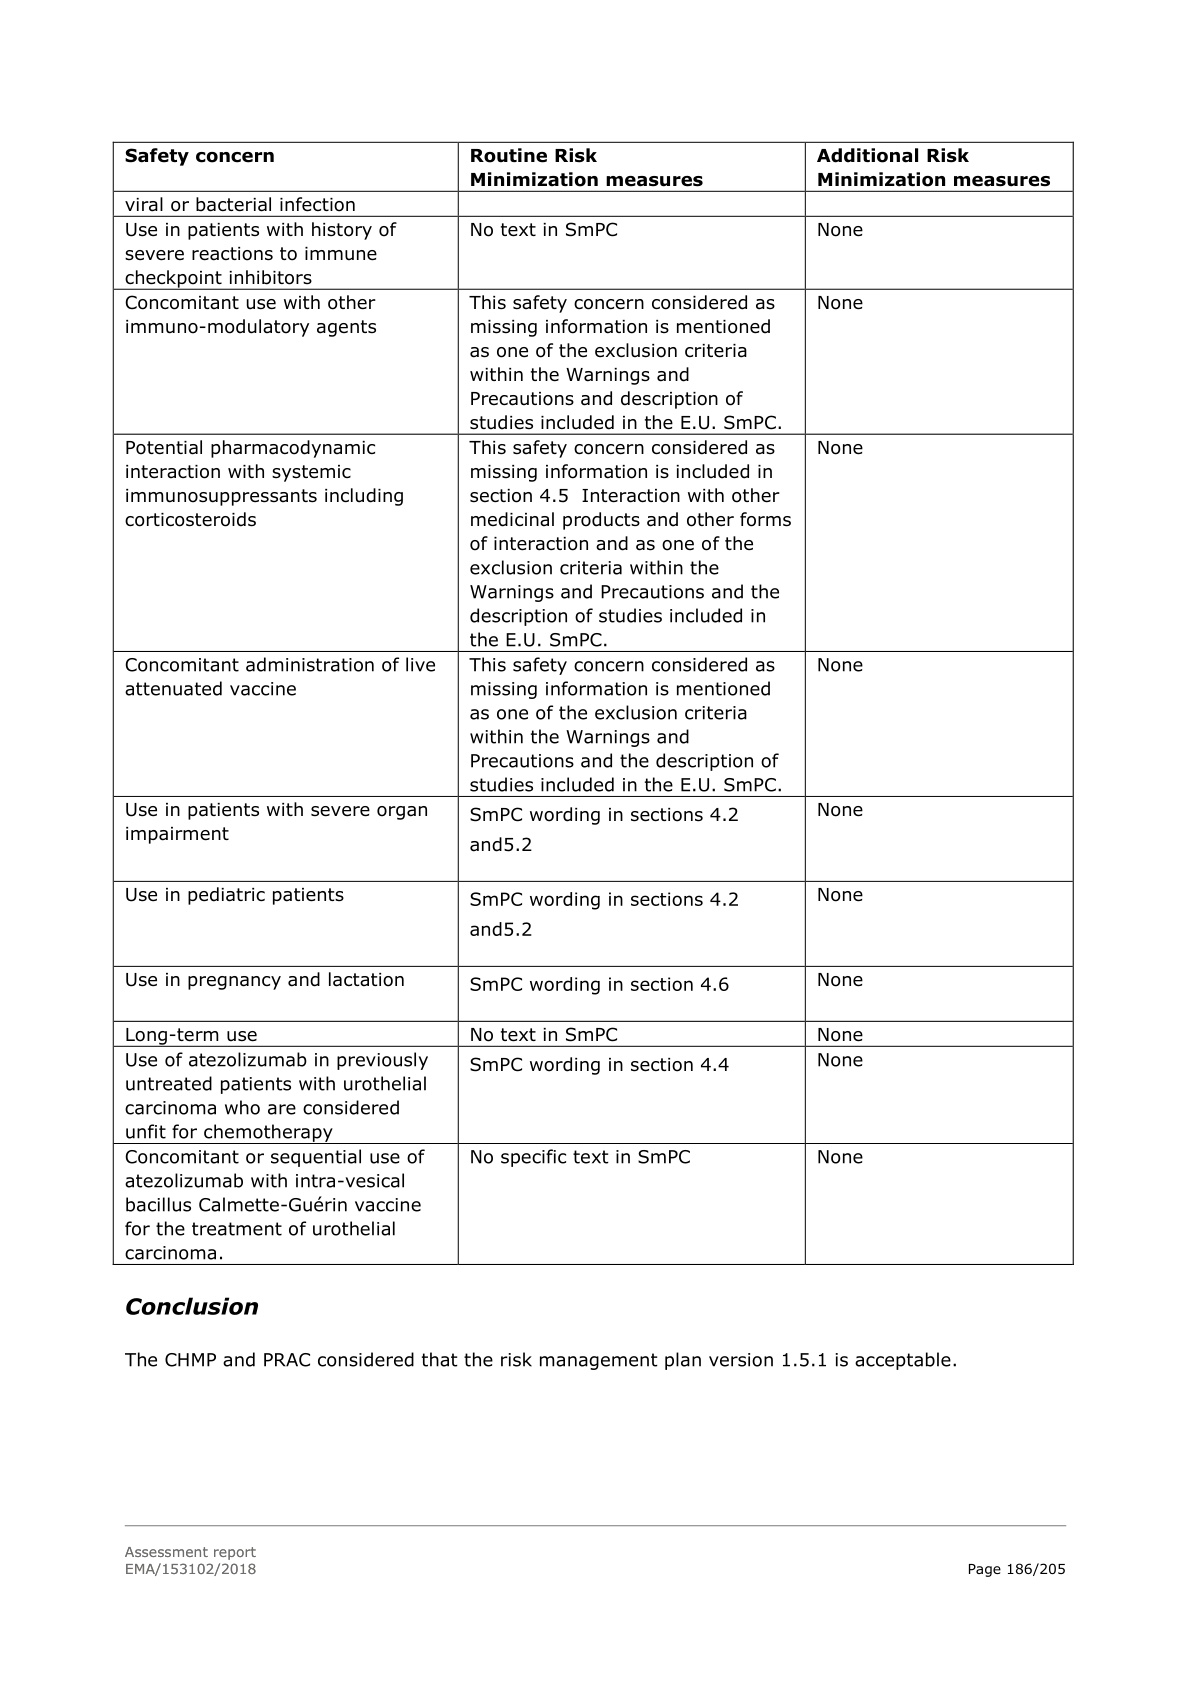full_lined: (112, 140, 1075, 1267)
